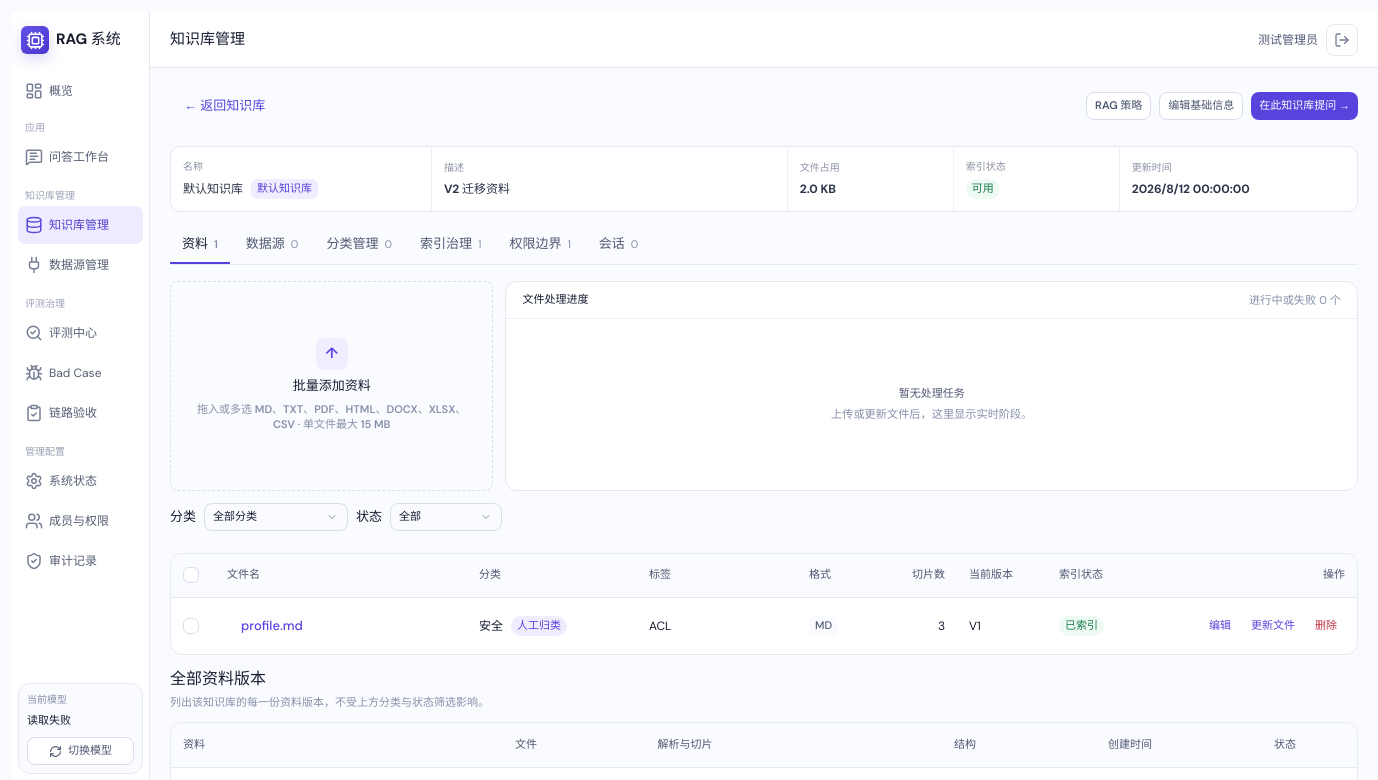
分类字典为空时给出明确空态而不是凭空造一个分类
Click the tab "分类管理0".
click(359, 245)  # box [314,226,404,264]
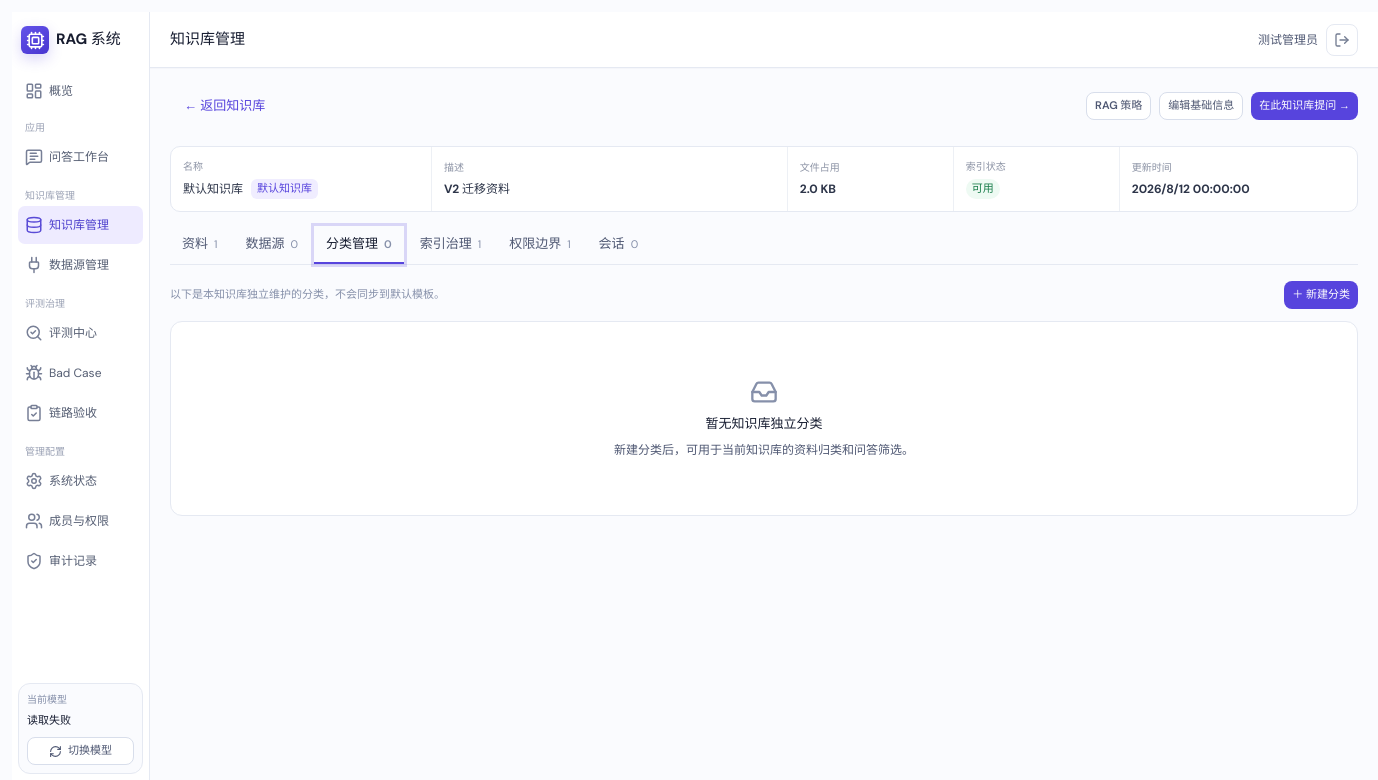
Check: the heading "暂无知识库独立分类" is shown, box [706,414,822,433]
